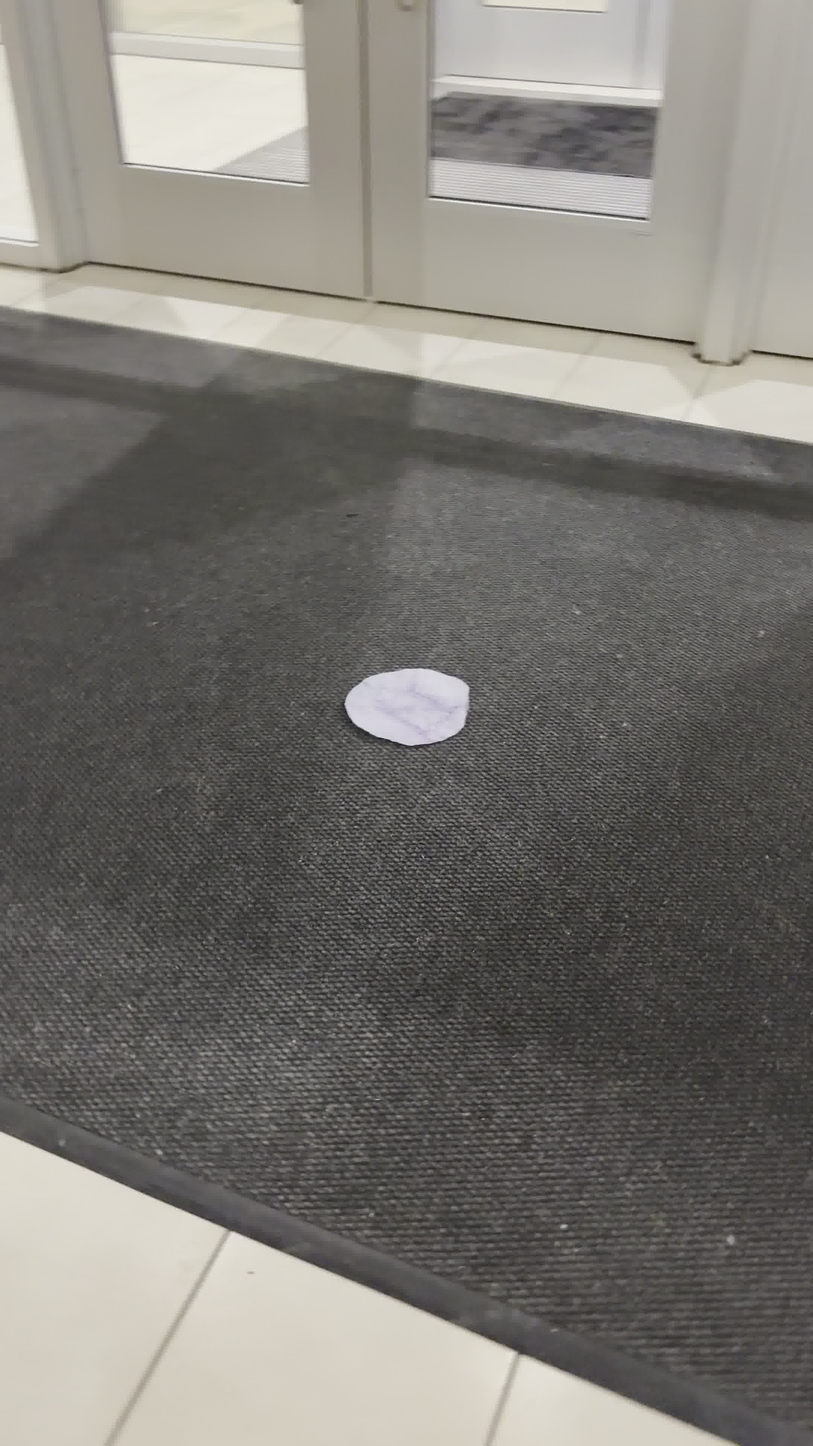Target: (344, 667, 470, 746)
